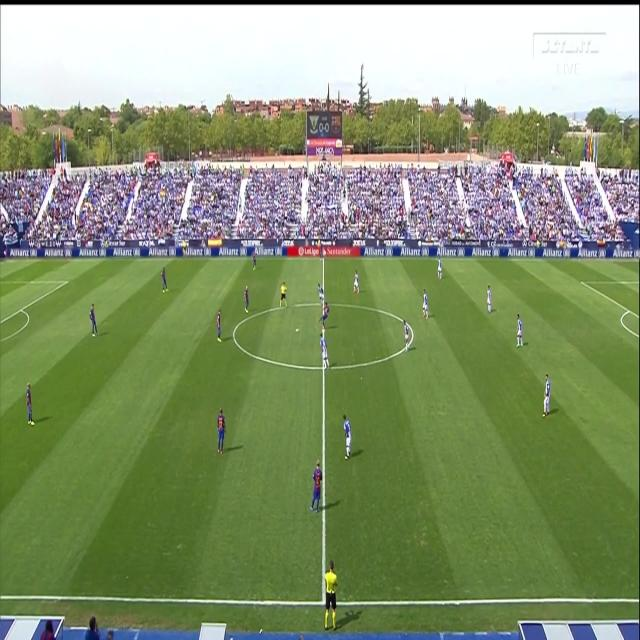Ball: (294, 324, 302, 337)
Player: (308, 458, 325, 518), (24, 378, 38, 430), (540, 372, 553, 422), (214, 408, 227, 456), (341, 411, 353, 460), (316, 300, 332, 334), (319, 334, 330, 373), (402, 315, 412, 354), (515, 313, 525, 352), (88, 304, 98, 342), (214, 305, 223, 346), (421, 286, 429, 325), (314, 282, 326, 307), (352, 268, 362, 296), (484, 284, 493, 315), (436, 256, 445, 285), (160, 265, 168, 295), (243, 282, 250, 316), (250, 247, 258, 276)
Referee: (323, 560, 340, 631), (277, 280, 289, 313)
